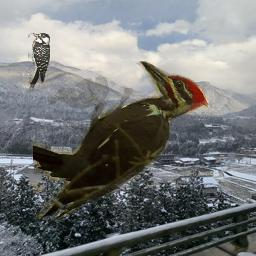Woodpecker: (33, 61, 209, 224), (28, 32, 50, 91)
